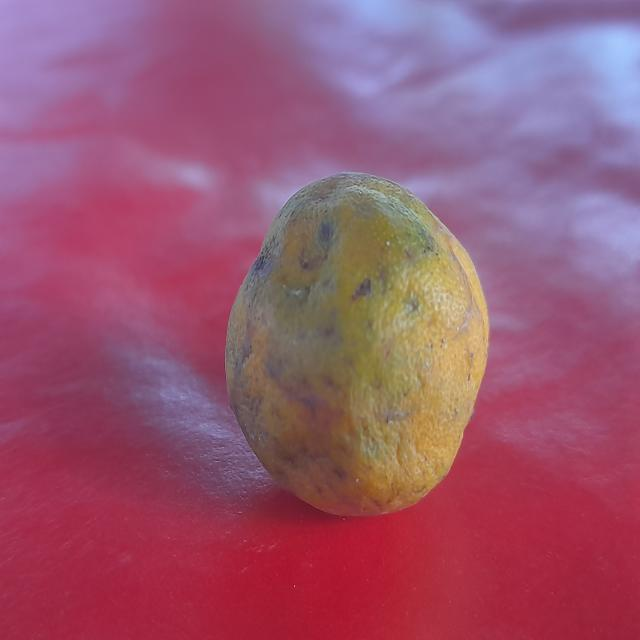black spot: (217, 159, 490, 528)
